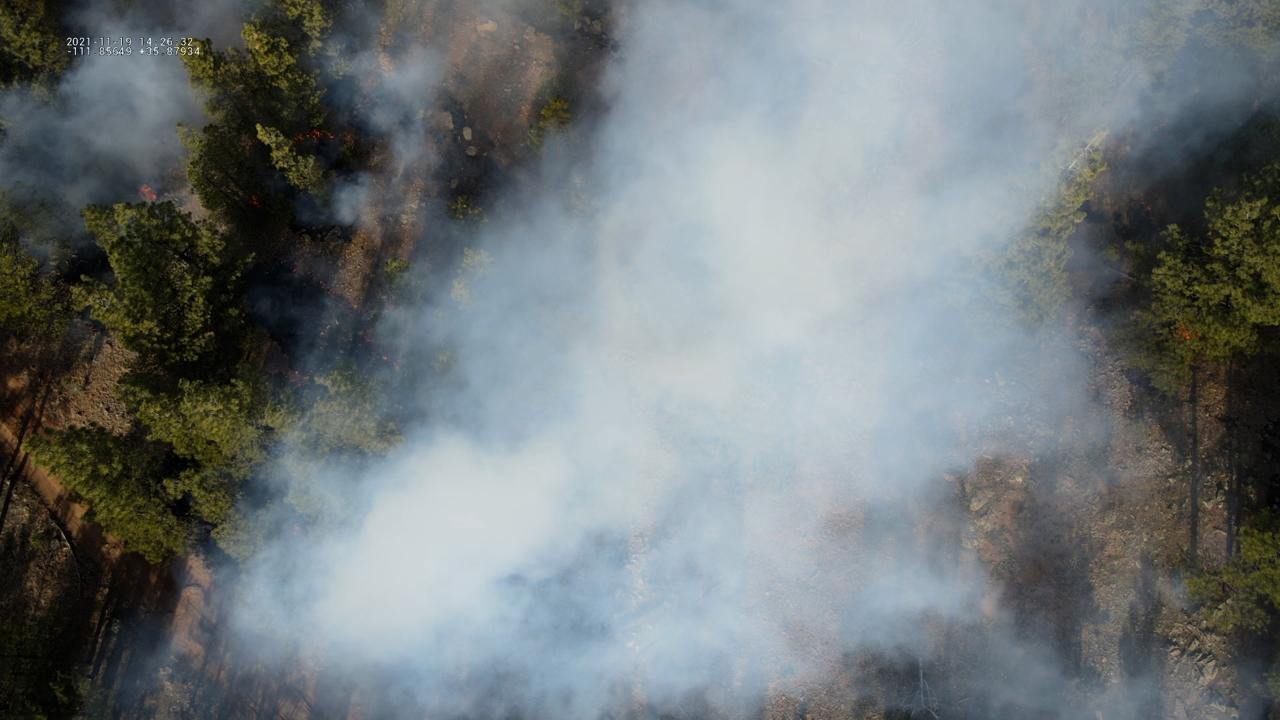fire: (286, 125, 337, 147), (136, 182, 159, 205), (1174, 319, 1194, 343), (248, 192, 264, 212)
smoke: (0, 0, 1280, 720)
